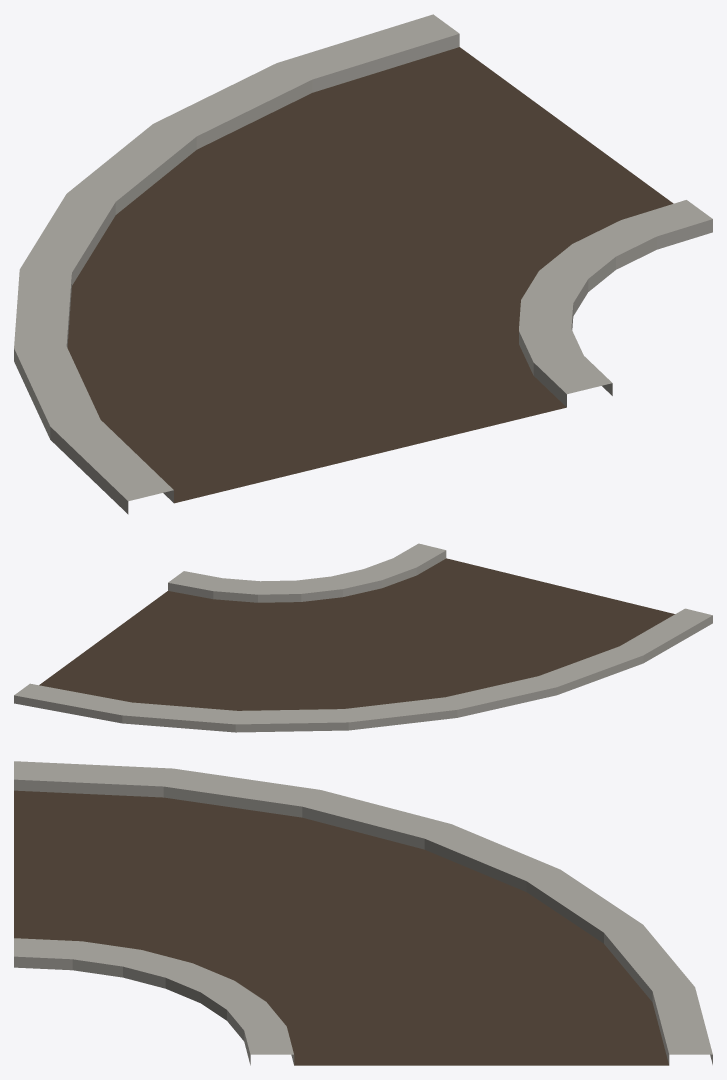
The model's file is Curvy Road Block.fbx.
3 renders of one model, top to bottom at view 1: azimuth 30°, elevation 25°; view 2: azimuth 150°, elevation 25°; view 3: azimuth 270°, elevation 25°, orthographic. The views are drawn at different scales.
Parts seen in each view (by area): view 1: Plane.067; view 2: Plane.067; view 3: Plane.067.
Boxes of the visible parts, box(x1,y1,x2,y2) form: Plane.067: box(14, 14, 712, 514); Plane.067: box(14, 543, 712, 732); Plane.067: box(14, 761, 712, 1065).
Size of the model in its own units: 30047 by 525 by 30228.
